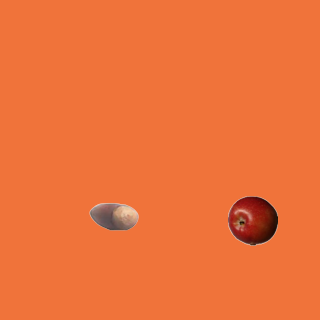Apple Braeburn: (227, 195, 277, 245)
Hazelnut: (88, 191, 138, 241)
